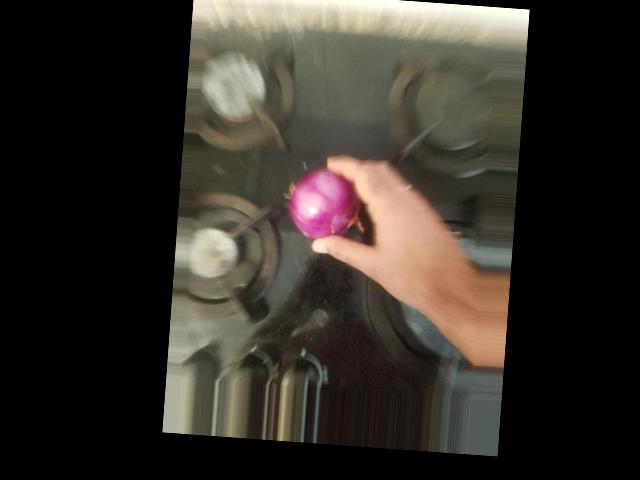onion: (225, 90, 320, 178)
